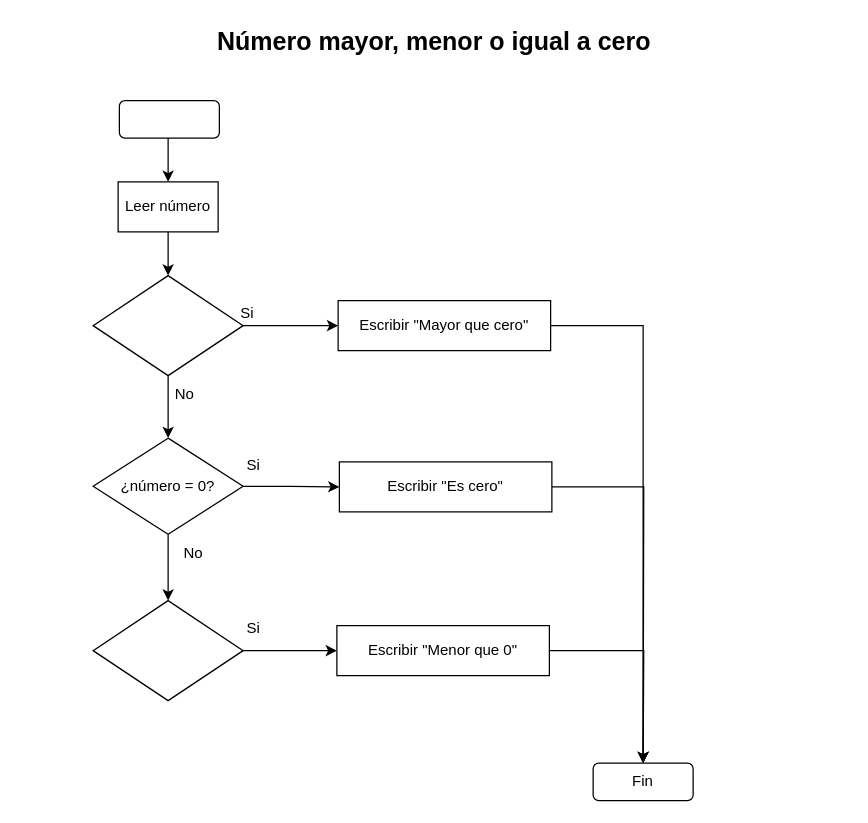
This 868x823 diagram has some shape labels left out. Each missing label, with the box of its shape:
Inicio: (118, 99, 219, 138)
¿número < 0?: (92, 599, 243, 701)
¿número >0?: (92, 274, 243, 376)
